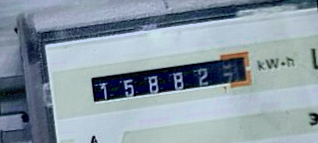1: (98, 80, 109, 99)
2: (196, 65, 210, 86)
5: (120, 77, 136, 97)
7: (221, 69, 234, 82)
8: (170, 68, 186, 91), (146, 73, 161, 94)
screen: (84, 48, 257, 110)
